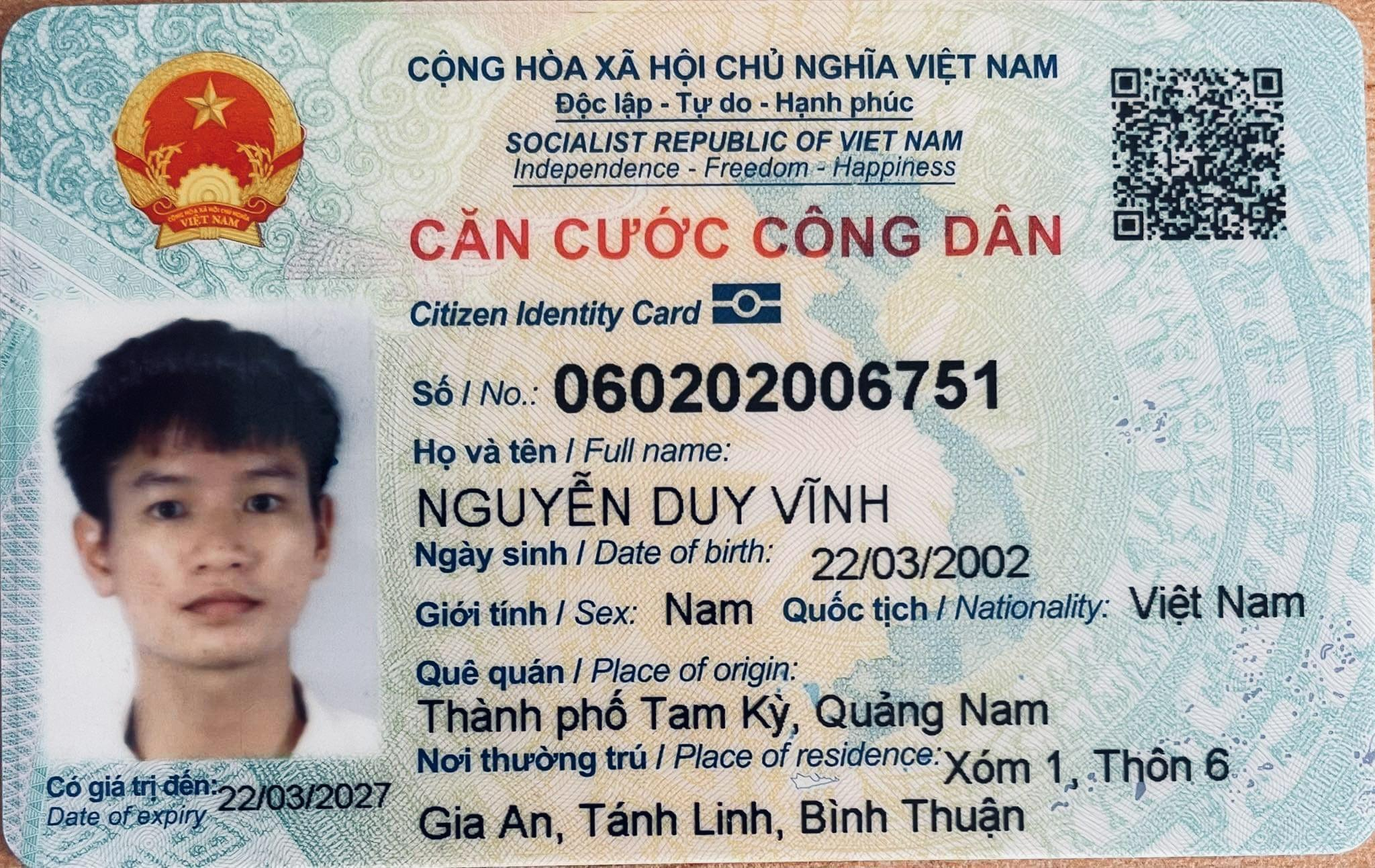ID: (547, 348, 1014, 436)
birth: (802, 538, 1044, 589)
name: (413, 476, 935, 532)
place: (413, 687, 1059, 738)
residence: (415, 786, 1028, 848), (938, 744, 1248, 794)
